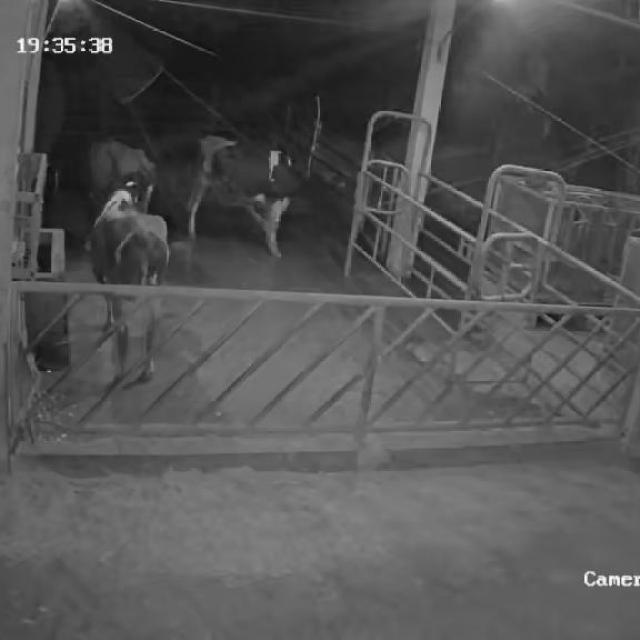standing: (84, 172, 168, 387), (186, 132, 298, 264), (80, 140, 160, 220)
